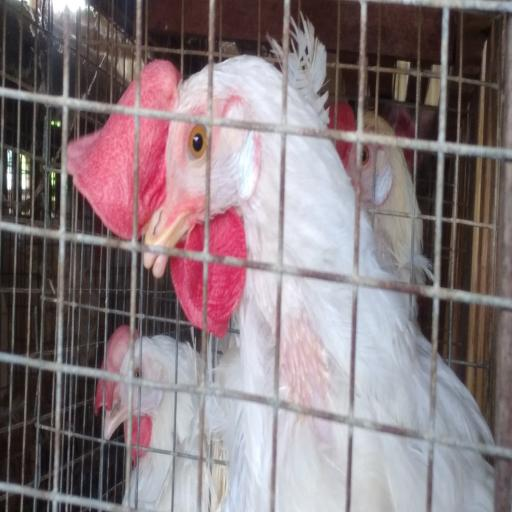healthy: (144, 76, 260, 254)
